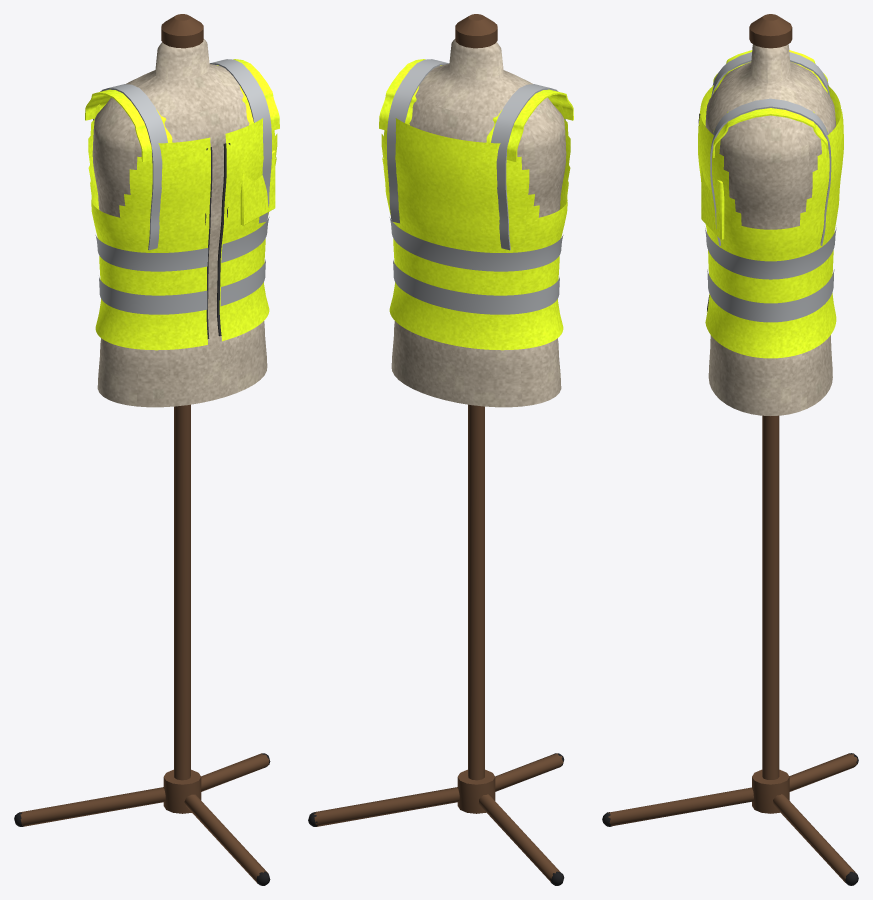
Rendered from hi-vis-vest-on-form (1).glb.
3 views of the same model, side by side, from view 1: azimuth 30°, elevation 25°; view 2: azimuth 150°, elevation 25°; view 3: azimuth 270°, elevation 25° (orthographic).
Visible parts, largest first — view 1: Hi_Vis_Vest_On_Form; view 2: Hi_Vis_Vest_On_Form; view 3: Hi_Vis_Vest_On_Form.
Part boxes in pixels (x1,y1,x2,y2): Hi_Vis_Vest_On_Form: (14,14,279,885); Hi_Vis_Vest_On_Form: (308,14,573,885); Hi_Vis_Vest_On_Form: (602,14,858,885).
Bounding box in the file's own units: 0.5476 × 1.66 × 0.478.
Materials: 6 (2 with a texture image).
